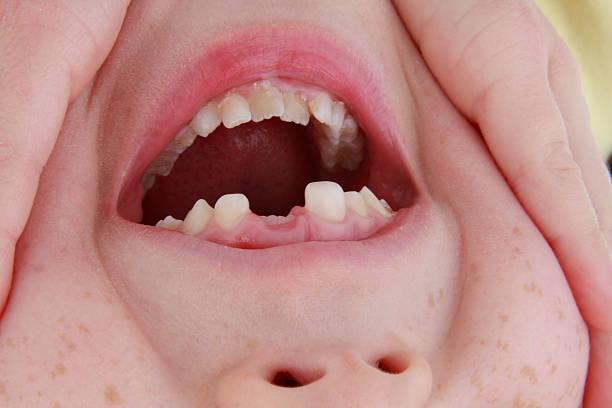Hypodontia: (241, 186, 322, 226)
